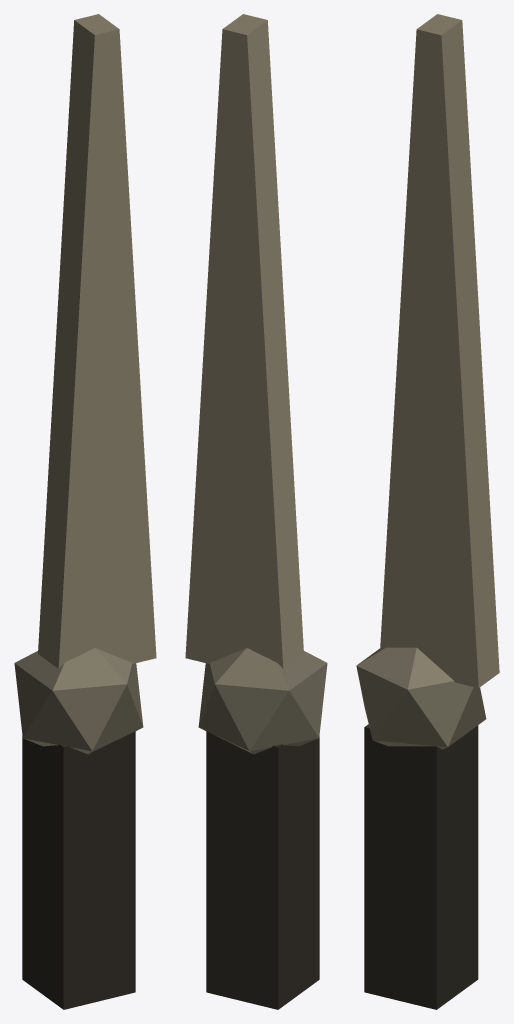
File: bone_knife.glb
The picture shows the model from 3 angles, left to right: view 1: azimuth 30°, elevation 25°; view 2: azimuth 150°, elevation 25°; view 3: azimuth 330°, elevation 25°; orthographic projection.
Parts seen in each view (by area): view 1: BoneKnife; view 2: BoneKnife; view 3: BoneKnife.
Part boxes in pixels (x1=…): BoneKnife: x1=14, y1=14, x2=156, y2=1009; BoneKnife: x1=185, y1=14, x2=327, y2=1009; BoneKnife: x1=356, y1=14, x2=499, y2=1009.
Bounding box in the file's own units: 0.0688 × 0.51 × 0.0595.
